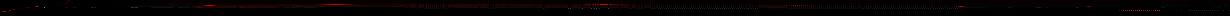Blue cone: (26, 7, 32, 8), (35, 6, 39, 7), (12, 9, 16, 10)
Yellow cone: (1086, 6, 1092, 8)
